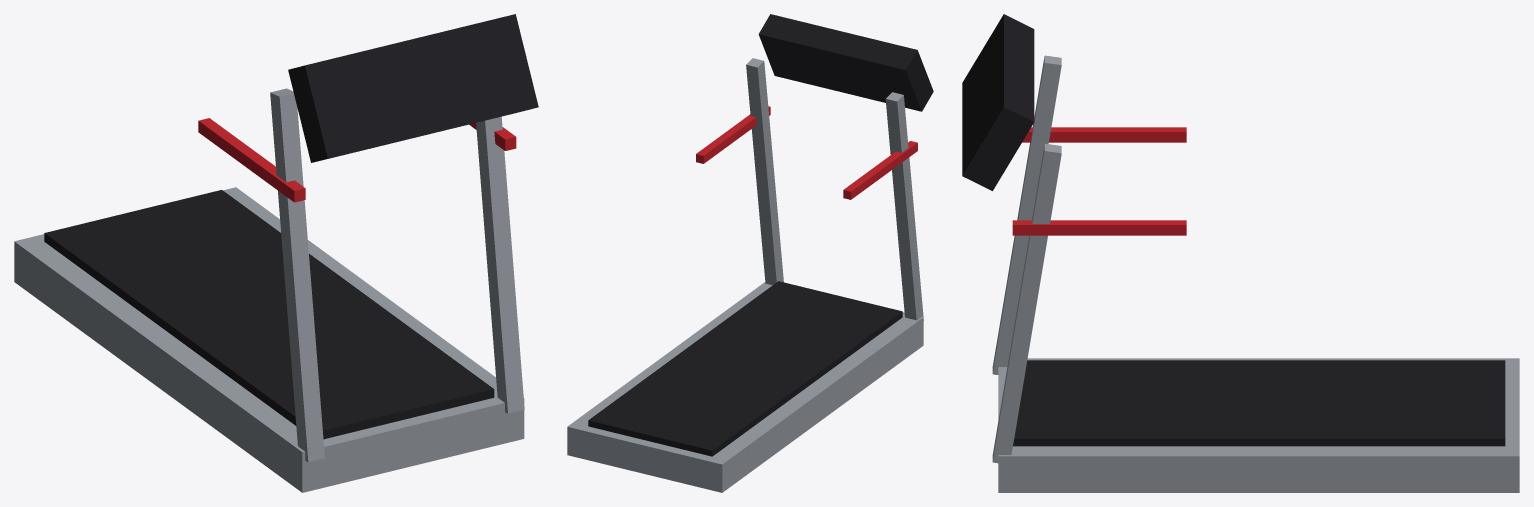
Rendered from gym_treadmill.glb.
3 views of the same model, side by side, from view 1: azimuth 30°, elevation 25°; view 2: azimuth 150°, elevation 25°; view 3: azimuth 270°, elevation 25° (orthographic). The views are drawn at different scales.
Visible parts, largest first — view 1: belt_gym_black, base_gym_steel, console_gym_black, posts_gym_steel, rails_gym_machine_red; view 2: belt_gym_black, base_gym_steel, console_gym_black, posts_gym_steel, rails_gym_machine_red; view 3: belt_gym_black, base_gym_steel, posts_gym_steel, console_gym_black, rails_gym_machine_red.
Boxes of the visible parts, x1=… form: belt_gym_black: x1=44, y1=190, x2=494, y2=439; base_gym_steel: x1=14, y1=187, x2=524, y2=492; console_gym_black: x1=288, y1=14, x2=538, y2=162; posts_gym_steel: x1=270, y1=88, x2=524, y2=462; rails_gym_machine_red: x1=198, y1=118, x2=516, y2=202; belt_gym_black: x1=588, y1=281, x2=902, y2=456; base_gym_steel: x1=567, y1=282, x2=923, y2=492; console_gym_black: x1=758, y1=14, x2=933, y2=111; posts_gym_steel: x1=746, y1=58, x2=923, y2=320; rails_gym_machine_red: x1=696, y1=106, x2=917, y2=199; belt_gym_black: x1=1013, y1=360, x2=1505, y2=446; base_gym_steel: x1=998, y1=358, x2=1519, y2=492; posts_gym_steel: x1=992, y1=55, x2=1061, y2=463; console_gym_black: x1=962, y1=14, x2=1034, y2=190; rails_gym_machine_red: x1=1012, y1=127, x2=1186, y2=235.
Size of the model in its own units: 0.8 by 1.46 by 1.92.
